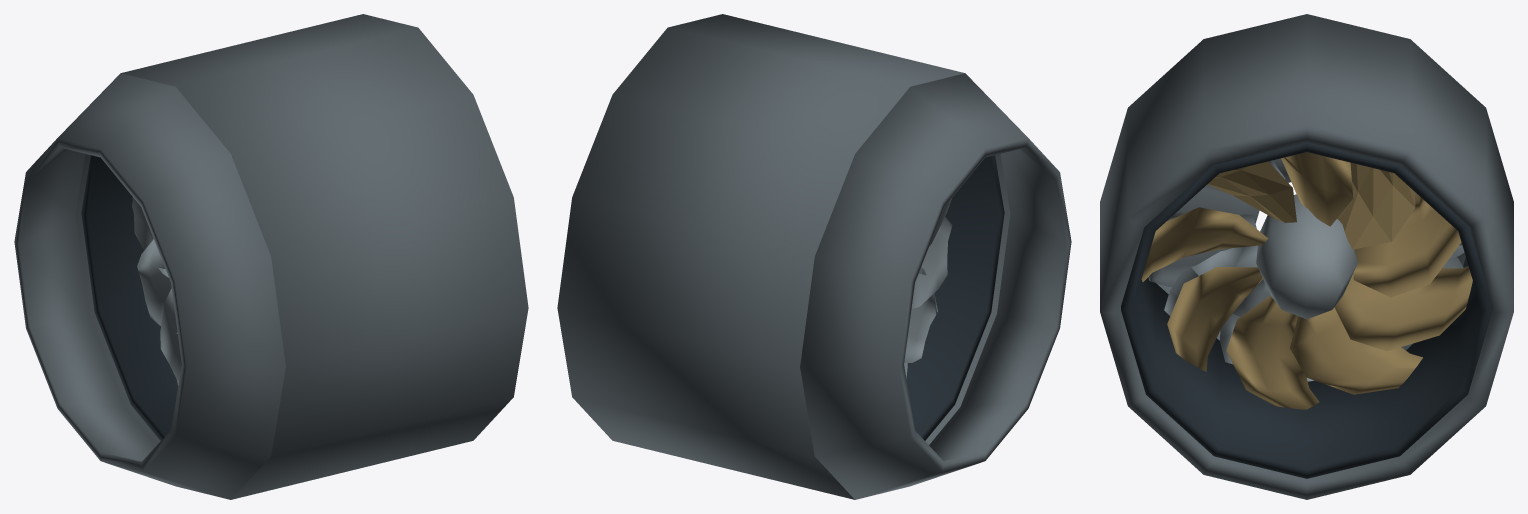
Rendered from PJ_T10_NEXTGEN_LOD3.fbx.
The picture shows the model from 3 angles, left to right: view 1: azimuth 30°, elevation 25°; view 2: azimuth 150°, elevation 25°; view 3: azimuth 270°, elevation 25°; orthographic projection. The views are drawn at different scales.
Parts seen in each view (by area): view 1: PJ_T10_NEXTGEN_LOD3_Housing.001, PJ_T10_NEXTGEN_LOD3_Nozzle.001, PJ_T10_NEXTGEN_LOD3_Lining.001, PJ_T10_NEXTGEN_LOD3_Stator_12.001, PJ_T10_NEXTGEN_LOD3_Stator_11.001, PJ_T10_NEXTGEN_LOD3_Stator_00.001; view 2: PJ_T10_NEXTGEN_LOD3_Housing.001, PJ_T10_NEXTGEN_LOD3_Nozzle.001, PJ_T10_NEXTGEN_LOD3_Lining.001, PJ_T10_NEXTGEN_LOD3_Stator_07.001, PJ_T10_NEXTGEN_LOD3_Stator_08.001; view 3: PJ_T10_NEXTGEN_LOD3_Housing.001, PJ_T10_NEXTGEN_LOD3_Lining.001, PJ_T10_NEXTGEN_LOD3_Hub.001, PJ_T10_NEXTGEN_LOD3_Rotor_08.001, PJ_T10_NEXTGEN_LOD3_Rotor_07.001, PJ_T10_NEXTGEN_LOD3_Rotor_06.001, PJ_T10_NEXTGEN_LOD3_Rotor_00.001, PJ_T10_NEXTGEN_LOD3_Rotor_05.001, PJ_T10_NEXTGEN_LOD3_Rotor_01.001, PJ_T10_NEXTGEN_LOD3_Rotor_04.001, PJ_T10_NEXTGEN_LOD3_Rotor_02.001, PJ_T10_NEXTGEN_LOD3_Rotor_03.001 (+4 smaller).
Boxes of the visible parts, x1,y1,x2,y2 form: PJ_T10_NEXTGEN_LOD3_Housing.001: (75, 14, 528, 499); PJ_T10_NEXTGEN_LOD3_Nozzle.001: (14, 73, 285, 499); PJ_T10_NEXTGEN_LOD3_Lining.001: (81, 155, 178, 440); PJ_T10_NEXTGEN_LOD3_Stator_12.001: (137, 239, 177, 333); PJ_T10_NEXTGEN_LOD3_Stator_11.001: (160, 288, 181, 385); PJ_T10_NEXTGEN_LOD3_Stator_00.001: (132, 197, 168, 277); PJ_T10_NEXTGEN_LOD3_Housing.001: (557, 14, 1010, 499); PJ_T10_NEXTGEN_LOD3_Nozzle.001: (800, 73, 1071, 499); PJ_T10_NEXTGEN_LOD3_Lining.001: (906, 155, 1004, 440); PJ_T10_NEXTGEN_LOD3_Stator_07.001: (911, 216, 952, 308); PJ_T10_NEXTGEN_LOD3_Stator_08.001: (904, 267, 937, 362); PJ_T10_NEXTGEN_LOD3_Housing.001: (1100, 14, 1513, 499); PJ_T10_NEXTGEN_LOD3_Lining.001: (1121, 142, 1492, 478); PJ_T10_NEXTGEN_LOD3_Hub.001: (1256, 194, 1357, 319); PJ_T10_NEXTGEN_LOD3_Rotor_08.001: (1334, 266, 1472, 351); PJ_T10_NEXTGEN_LOD3_Rotor_07.001: (1290, 307, 1422, 394); PJ_T10_NEXTGEN_LOD3_Rotor_06.001: (1226, 295, 1319, 409); PJ_T10_NEXTGEN_LOD3_Rotor_00.001: (1353, 193, 1461, 297); PJ_T10_NEXTGEN_LOD3_Rotor_05.001: (1167, 267, 1262, 371); PJ_T10_NEXTGEN_LOD3_Rotor_01.001: (1337, 163, 1415, 249); PJ_T10_NEXTGEN_LOD3_Rotor_04.001: (1141, 207, 1267, 281); PJ_T10_NEXTGEN_LOD3_Rotor_02.001: (1281, 152, 1353, 226); PJ_T10_NEXTGEN_LOD3_Rotor_03.001: (1207, 161, 1296, 222).
Bounding box in the file's own units: 508 × 610 × 610.
